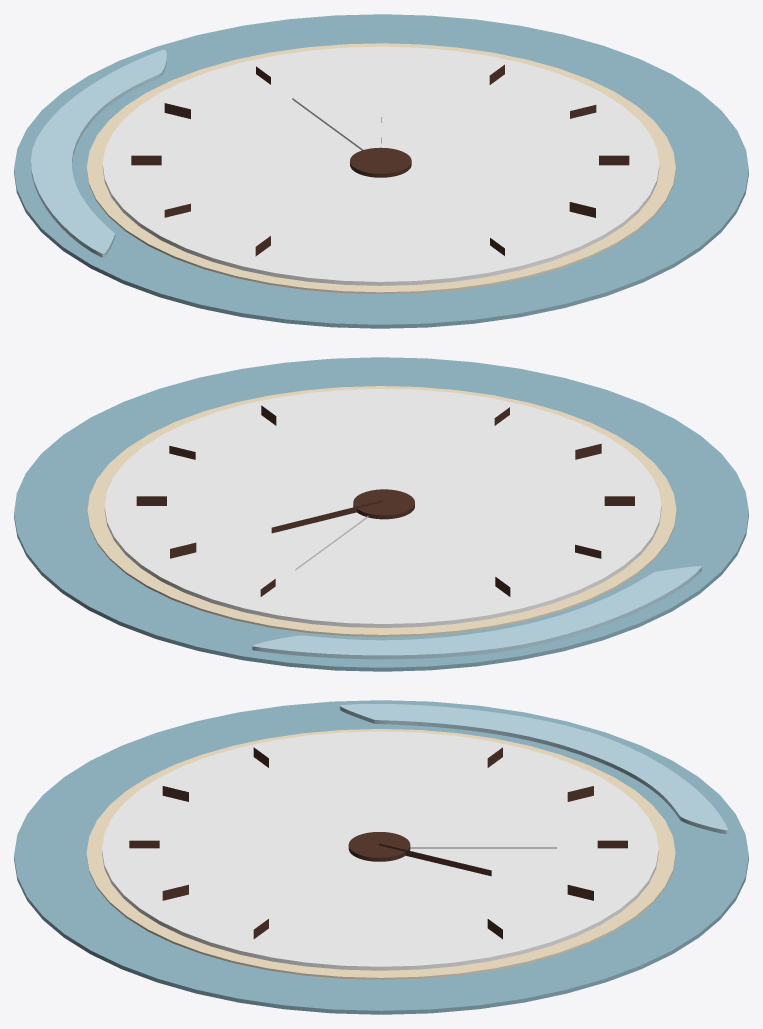
File: emoji_u1f550.glb
3 renders of one model, top to bottom at view 1: azimuth 30°, elevation 25°; view 2: azimuth 150°, elevation 25°; view 3: azimuth 270°, elevation 25°, orthographic.
Visible parts, largest first — view 1: emoji_u1f550; view 2: emoji_u1f550; view 3: emoji_u1f550.
Boxes of the visible parts, x1=… form: emoji_u1f550: x1=14, y1=14, x2=748, y2=328; emoji_u1f550: x1=14, y1=357, x2=748, y2=671; emoji_u1f550: x1=14, y1=700, x2=748, y2=1014.
Bounding box in the file's own units: 0.0339 × 0.0018 × 0.0339.
